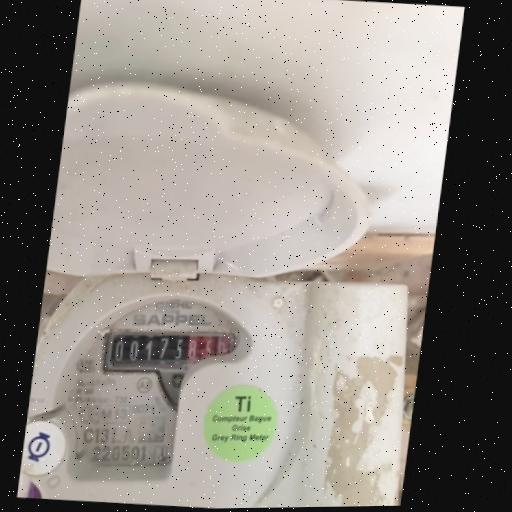0: (110, 333, 130, 365), (124, 333, 144, 364)
1: (140, 334, 158, 365)
5: (169, 335, 187, 366), (199, 333, 218, 361)
6: (213, 332, 231, 358)
7: (153, 334, 173, 365)
8: (184, 333, 204, 364)
border_water_meter_number: (100, 323, 240, 380)
